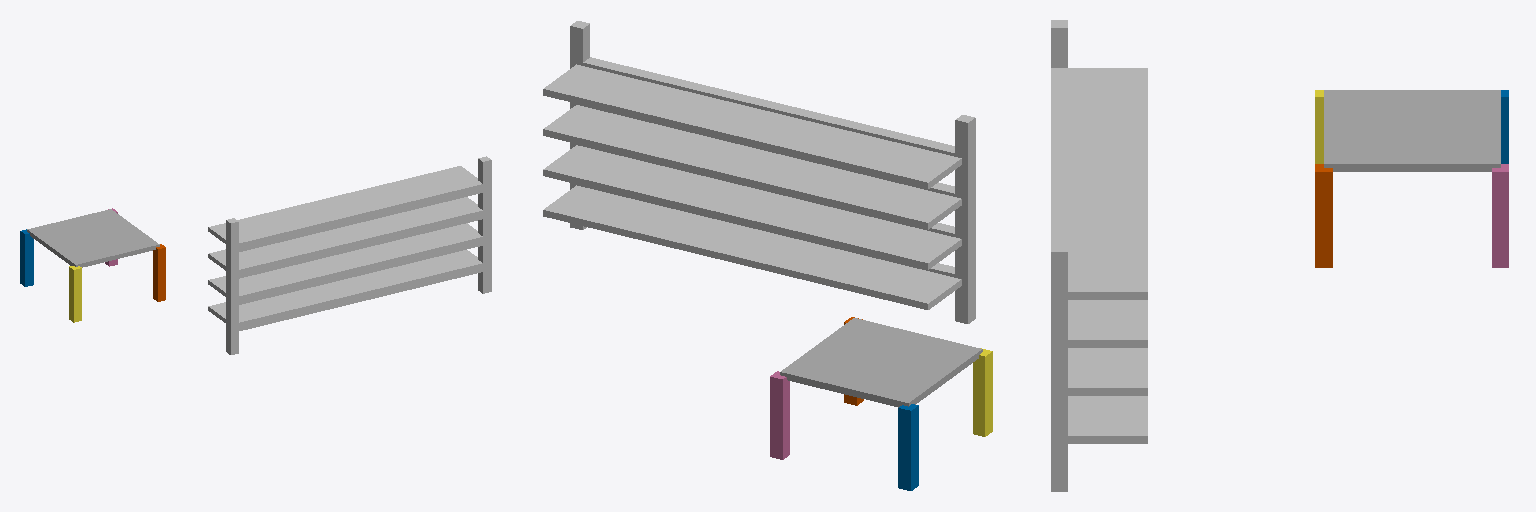
URDF robot description (shelve):
<?xml version="1.0"?>
<robot name="shelve">
    
    <material name="grey">
        <color rgba="0.8 0.8 0.8 1"/>
    </material>

    <link name="shelve_origin"/>

    <link name="left_leg">
        <visual>
            <material name="grey"/>
            <origin xyz="0 0 0.75"/>
            <geometry>
                <box size="0.1 0.1 1.5"/>
            </geometry>
        </visual>
        <collision>
            <origin xyz="0 0 0.75"/>
            <geometry>
                <box size="0.1 0.1 1.5"/>
            </geometry>
        </collision>
    </link>

    <link name="right_leg">
        <visual>
            <geometry>
                <box size="0.1 0.1 1.5"/>
            </geometry>
            <origin xyz="0 0 0.75"/>
            <material name="grey"/>

        </visual>
        <collision>
            <origin xyz="0 0 0.75"/>
            <geometry>
                <box size="0.1 0.1 1.5"/>
            </geometry>
        </collision>
    </link>

    <link name="bar0">
        <visual>
            <material name="grey"/>
            <origin xyz="-1.5 0 0"/>
            <geometry>
                <box size="3 0.1 0.1"/>
            </geometry>
        </visual>
        <collision>
            <origin xyz="-1.5 0 0"/>
            <geometry>
                <box size="3 0.1 0.1"/>
            </geometry>
        </collision>
    </link>

    <link name="board0">
        <visual>
            <material name="grey"/>
            <origin xyz="0 0.25 0"/>
            <geometry>
                <box size="3 0.5 0.05"/>
            </geometry>
        </visual>
        <collision>
            <origin xyz="0 0.25 0"/>
            <geometry>
                <box size="3 0.5 0.05"/>
            </geometry>
        </collision>
    </link>

    <link name="bar1">
        <visual>
            <material name="grey"/>
            <origin xyz="-1.5 0 0"/>
            <geometry>
                <box size="3 0.1 0.1"/>
            </geometry>
        </visual>
        <collision>
            <origin xyz="-1.5 0 0"/>
            <geometry>
                <box size="3 0.1 0.1"/>
            </geometry>
        </collision>
    </link>

    <link name="board1">
        <visual>
            <material name="grey"/>
            <origin xyz="0 0.25 0"/>
            <geometry>
                <box size="3 0.5 0.05"/>
            </geometry>
        </visual>
        <collision>
            <origin xyz="0 0.25 0"/>
            <geometry>
                <box size="3 0.5 0.05"/>
            </geometry>
        </collision>
    </link>

    <link name="bar2">
        <visual>
            <material name="grey"/>
            <origin xyz="-1.5 0 0"/>
            <geometry>
                <box size="3 0.1 0.1"/>
            </geometry>
        </visual>
        <collision>
            <origin xyz="-1.5 0 0"/>
            <geometry>
                <box size="3 0.1 0.1"/>
            </geometry>
        </collision>
    </link>

    <link name="board2">
        <visual>
            <material name="grey"/>
            <origin xyz="0 0.25 0"/>
            <geometry>
                <box size="3 0.5 0.05"/>
            </geometry>
        </visual>
        <collision>
            <origin xyz="0 0.25 0"/>
            <geometry>
                <box size="3 0.5 0.05"/>
            </geometry>
        </collision>
    </link>

    <link name="bar3">
        <visual>
            <material name="grey"/>
            <origin xyz="-1.5 0 0"/>
            <geometry>
                <box size="3 0.1 0.1"/>
            </geometry>
        </visual>
        <collision>
            <origin xyz="-1.5 0 0"/>
            <geometry>
                <box size="3 0.1 0.1"/>
            </geometry>
        </collision>
    </link>

    <link name="board3">
        <visual>
            <material name="grey"/>
            <origin xyz="0 0.25 0"/>
            <geometry>
                <box size="3 0.5 0.05"/>
            </geometry>
        </visual>
        <collision>
            <origin xyz="0 0.25 0"/>
            <geometry>
                <box size="3 0.5 0.05"/>
            </geometry>
        </collision>
    </link>
    
    
    <joint name="board0_to_bar0" type="fixed">
        <parent link="bar0"/>
        <child link="board0"/>
        <origin xyz="-1.5 0 0"/>
    </joint>

    <joint name="board1_to_bar1" type="fixed">
        <parent link="bar1"/>
        <child link="board1"/>
        <origin xyz="-1.5 0 0"/>
    </joint>

    <joint name="board2_to_bar2" type="fixed">
        <parent link="bar2"/>
        <child link="board2"/>
        <origin xyz="-1.5 0 0"/>
    </joint>

    <joint name="board3_to_bar3" type="fixed">
        <parent link="bar3"/>
        <child link="board3"/>
        <origin xyz="-1.5 0 0"/>
    </joint>



    <joint name="bar3_to_left_leg" type="fixed">
        <parent link="left_leg"/>
        <child link="bar3"/>
        <origin xyz="0 0 1.2"/>
    </joint>

    <joint name="bar2_to_left_leg" type="fixed">
        <parent link="left_leg"/>
        <child link="bar2"/>
        <origin xyz="0 0 0.9"/>
    </joint>

    <joint name="bar1_to_left_leg" type="fixed">
        <parent link="left_leg"/>
        <child link="bar1"/>
        <origin xyz="0 0 0.6"/>
    </joint>

    <joint name="bar0_to_left_leg" type="fixed">
        <parent link="left_leg"/>
        <child link="bar0"/>
        <origin xyz="0 0 0.3"/>
    </joint>
    
    <joint name="left_to_right_leg" type="fixed">
        <parent link="left_leg"/>
        <child link="right_leg"/>
        <origin xyz="-3 0 0"/>
    </joint>

    <joint name="left_leg_to_shelve_origin" type="fixed">
        <parent link="shelve_origin"/>
        <child link="left_leg"/>
        <origin xyz="0 -1.5 0"/>
    </joint>



    <link name="left_front_leg">
        <collision>
            <origin xyz="0 0 0.3"/>
            <geometry>
                <box size="0.1 0.1 0.6"/>
            </geometry>
        </collision>
        <visual>
            <origin xyz="0 0 0.3"/>
            <geometry>
                <box size="0.1 0.1 0.6"/>
            </geometry>
        </visual>
    </link>
    

    <link name="right_front_leg">
        <collision>
            <origin xyz="0 0 0.3"/>
            <geometry>
                <box size="0.1 0.1 0.6"/>
            </geometry>
        </collision>
        <visual>
            <origin xyz="0 0 0.3"/>
            <geometry>
                <box size="0.1 0.1 0.6"/>
            </geometry>
        </visual>
    </link>


    <link name="left_back_leg">
        <collision>
            <origin xyz="0 0 0.3"/>
            <geometry>
                <box size="0.1 0.1 0.6"/>
            </geometry>
        </collision>
        <visual>
            <origin xyz="0 0 0.3"/>
            <geometry>
                <box size="0.1 0.1 0.6"/>
            </geometry>
        </visual>
    </link>


    <link name="right_back_leg">
        <collision>
            <origin xyz="0 0 0.3"/>
            <geometry>
                <box size="0.1 0.1 0.6"/>
            </geometry>
        </collision>
        <visual>
            <origin xyz="0 0 0.3"/>
            <geometry>
                <box size="0.1 0.1 0.6"/>
            </geometry>
        </visual>
    </link>


    <link name="top">
        <collision>
            <geometry>
                <box size="1 1 0.05"/>
            </geometry>
        </collision>
        <visual>
            <geometry>
                <box size="1 1 0.05"/>
            </geometry>
        </visual>
    </link>
    

    <joint name="origin_to_left_front_leg" type="fixed">
        <parent link="shelve_origin"/>
        <child link="left_front_leg"/>
        <origin xyz="-4 0 0"/>
    </joint>

    <joint name="left_front_to_back" type="fixed">
        <parent link="left_front_leg"/>
        <child link="left_back_leg"/>
        <origin xyz="1 0 0"/>
    </joint>

    <joint name="left_front_to_right_front" type="fixed">
        <parent link="left_front_leg"/>
        <child link="right_front_leg"/>
        <origin xyz="0 1 0"/>
    </joint>

    <joint name="left_front_to_right_back" type="fixed">
        <parent link="left_front_leg"/>
        <child link="right_back_leg"/>
        <origin xyz="1 1 0"/>
    </joint>

    <joint name="left_front_leg_to_top" type="fixed">
        <parent link="left_front_leg"/>
        <child link="top"/>
        <origin xyz="0.5 0.5 0.6"/>
    </joint>


</robot>

--- Facts derived from the render (not from the file) ---
3 views of the same robot in one strip: view 1: azimuth 30°, elevation 25°; view 2: azimuth 150°, elevation 25°; view 3: azimuth 270°, elevation 25° (orthographic).
Model shelve with 16 links and 15 joints (15 fixed), rooted at shelve_origin, posed every joint at zero.
Visible links, largest first — view 1: board3, top, bar2, bar1, bar0, bar3, board0, board1, board2, right_leg, left_leg, right_front_leg (+2 smaller); view 2: board0, board2, board3, board1, top, bar3, right_leg, right_front_leg, right_back_leg, left_front_leg, left_leg, bar0 (+2 smaller); view 3: board3, top, left_leg, board0, board1, board2, bar3, left_back_leg, right_back_leg, right_leg, left_front_leg, right_front_leg.
Boxes of the visible links, left/top/right/bottom form: board3: left=208, top=166, right=477, bottom=243; top: left=27, top=209, right=159, bottom=267; bar2: left=235, top=207, right=486, bottom=278; bar1: left=235, top=233, right=486, bottom=305; bar0: left=236, top=260, right=486, bottom=330; bar3: left=235, top=181, right=486, bottom=252; board0: left=208, top=250, right=477, bottom=322; board1: left=208, top=223, right=477, bottom=296; board2: left=208, top=197, right=477, bottom=270; right_leg: left=226, top=218, right=238, bottom=354; left_leg: left=478, top=156, right=491, bottom=293; right_front_leg: left=20, top=229, right=33, bottom=286; board0: left=543, top=185, right=961, bottom=309; board2: left=543, top=105, right=961, bottom=229; board3: left=543, top=64, right=961, bottom=188; board1: left=543, top=145, right=961, bottom=269; top: left=780, top=318, right=982, bottom=407; bar3: left=583, top=57, right=961, bottom=167; right_leg: left=955, top=115, right=975, bottom=323; right_front_leg: left=898, top=404, right=918, bottom=490; right_back_leg: left=770, top=371, right=789, bottom=459; left_front_leg: left=973, top=348, right=992, bottom=436; left_leg: left=570, top=21, right=589, bottom=229; bar0: left=583, top=186, right=961, bottom=288; board3: left=1068, top=68, right=1147, bottom=299; top: left=1324, top=90, right=1500, bottom=171; left_leg: left=1051, top=244, right=1067, bottom=491; board0: left=1068, top=396, right=1147, bottom=443; board1: left=1068, top=348, right=1147, bottom=395; board2: left=1068, top=300, right=1147, bottom=347; bar3: left=1051, top=68, right=1067, bottom=243; left_back_leg: left=1315, top=164, right=1332, bottom=267; right_back_leg: left=1492, top=164, right=1508, bottom=267; right_leg: left=1051, top=20, right=1067, bottom=67; left_front_leg: left=1315, top=90, right=1323, bottom=163; right_front_leg: left=1501, top=90, right=1508, bottom=163.
Size in the robot's own frame: 4.1 by 2.6 by 1.5 metres.
Geometry: primitives only (box / cylinder / sphere), no mesh files.